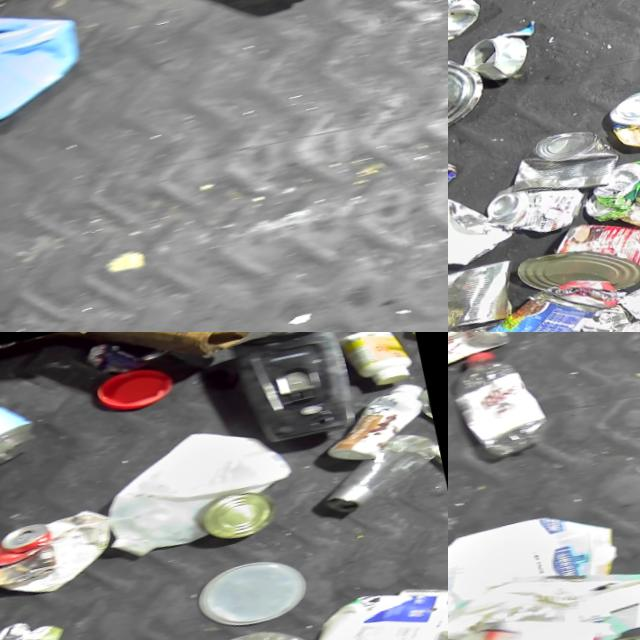can: (501, 118, 626, 206), (515, 232, 640, 309), (549, 200, 640, 295), (483, 169, 592, 244), (469, 275, 610, 332), (448, 255, 526, 331), (199, 482, 283, 544), (457, 28, 533, 87), (0, 517, 60, 588), (448, 47, 494, 139), (577, 155, 640, 222), (448, 332, 515, 375), (604, 78, 640, 155), (448, 0, 487, 53), (421, 575, 448, 640), (616, 267, 640, 332), (448, 147, 468, 212), (448, 315, 524, 332), (414, 372, 436, 428), (616, 185, 640, 236)
milk_jug: (89, 408, 306, 563)
non_white_jug: (0, 0, 104, 145)
plastic_bottle: (448, 336, 557, 464), (448, 592, 594, 640)
